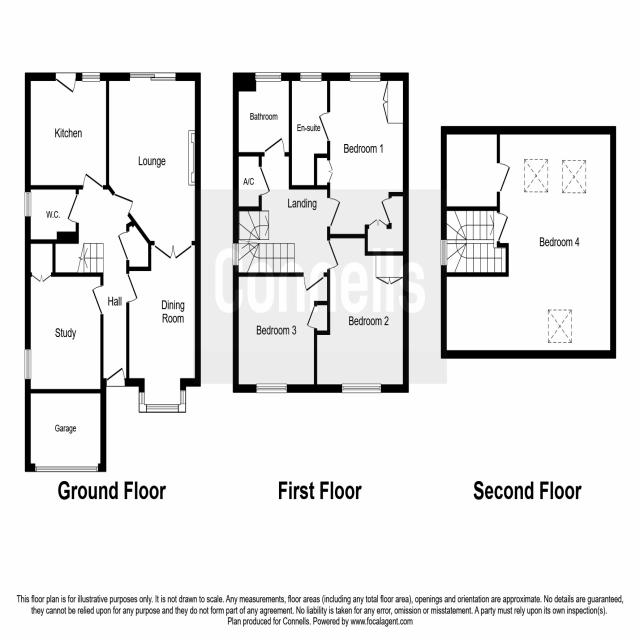DOOR: (112, 191, 135, 217), (496, 161, 511, 197), (55, 71, 77, 94), (303, 271, 326, 293), (495, 211, 510, 244), (263, 136, 286, 157), (326, 196, 341, 228), (326, 238, 340, 271), (317, 110, 331, 142), (106, 365, 126, 387), (82, 171, 105, 190), (116, 230, 130, 261), (66, 193, 79, 225), (126, 272, 139, 304), (258, 165, 271, 197), (91, 284, 104, 315)
DOUBLE DOOR: (153, 240, 192, 260)
ROOM: (440, 125, 617, 360), (105, 72, 201, 261), (314, 234, 409, 394), (318, 72, 409, 239), (126, 240, 201, 413), (232, 272, 330, 394), (24, 272, 107, 395), (24, 72, 109, 190)
SLIDING DOOR: (128, 71, 178, 82)
WINDOW: (341, 382, 382, 394), (256, 382, 288, 394), (349, 71, 381, 82), (255, 71, 282, 83), (146, 404, 179, 413), (24, 349, 32, 381), (440, 239, 448, 267), (300, 72, 322, 82), (24, 191, 32, 218), (82, 71, 101, 82), (232, 242, 240, 266), (138, 392, 145, 405), (180, 390, 186, 405)
